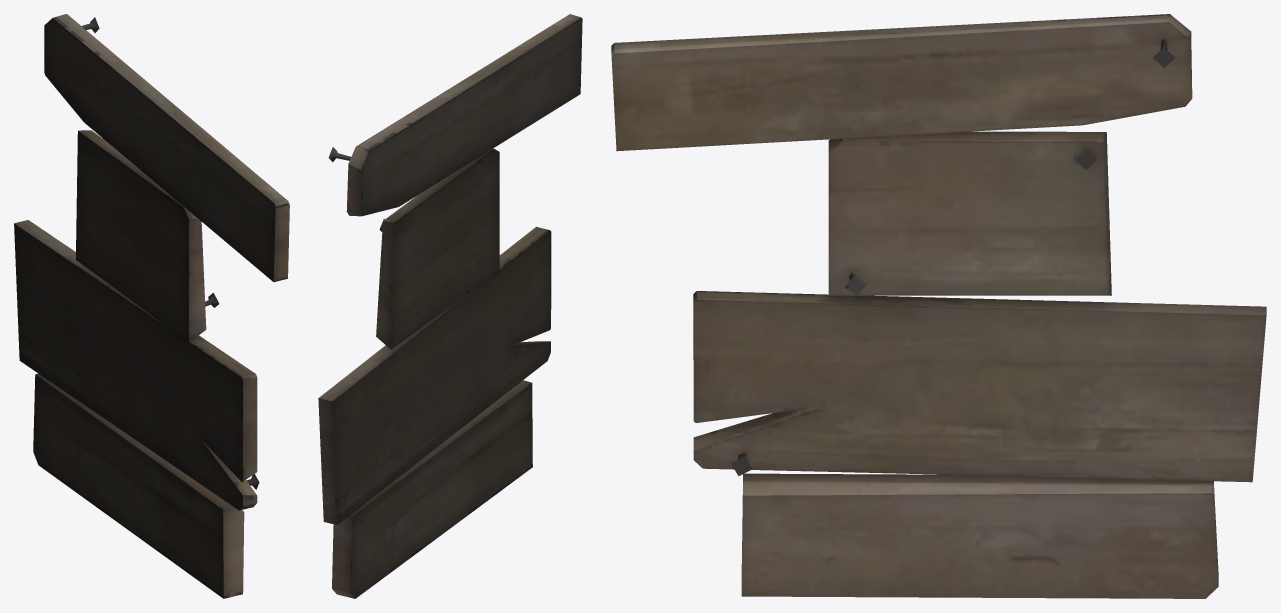
3 views of the same model, side by side, from view 1: azimuth 30°, elevation 25°; view 2: azimuth 150°, elevation 25°; view 3: azimuth 270°, elevation 25° (orthographic). The views are drawn at different scales.
Parts seen in each view (by area): view 1: body0_model0_lod0_mesh0; view 2: body0_model0_lod0_mesh0; view 3: body0_model0_lod0_mesh0.
Part boxes in pixels (<box>): body0_model0_lod0_mesh0: <box>14,14,289,598</box>; body0_model0_lod0_mesh0: <box>318,14,582,598</box>; body0_model0_lod0_mesh0: <box>611,14,1266,598</box>.
Bounding box in the file's own units: 7.7 × 84.42 × 87.13.
Materials: 1 (1 with a texture image).
